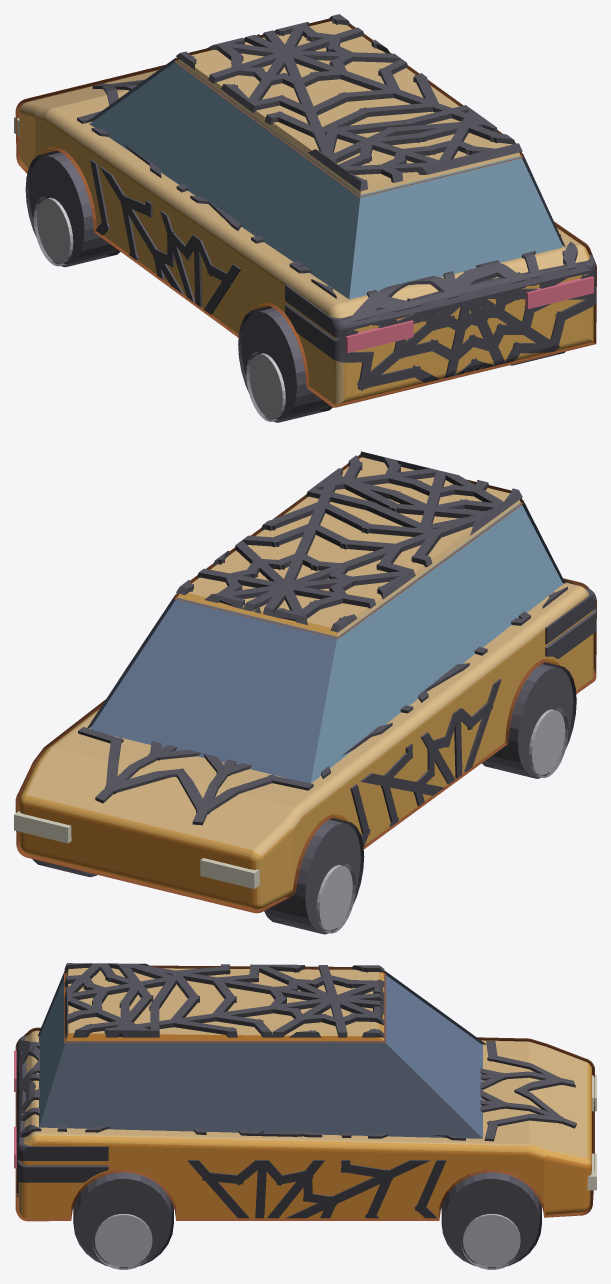
File: car_hatch.glb
3 views of the same model, one above another, from view 1: azimuth 30°, elevation 25°; view 2: azimuth 150°, elevation 25°; view 3: azimuth 270°, elevation 25° (orthographic). The views are drawn at different scales.
Visible parts, largest first — view 1: car; view 2: car; view 3: car.
Boxes of the visible parts, bbox=[...] form: car: bbox=[14, 14, 596, 422]; car: bbox=[14, 451, 596, 934]; car: bbox=[14, 963, 596, 1269].
Size of the model in its own units: 1.91 by 1.56 by 3.88.
